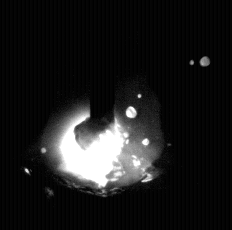arame: (91, 0, 116, 139)
poca: (41, 0, 164, 230)
